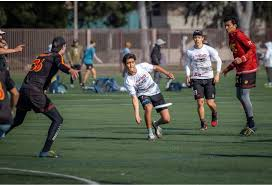disc: (154, 102, 173, 111)
